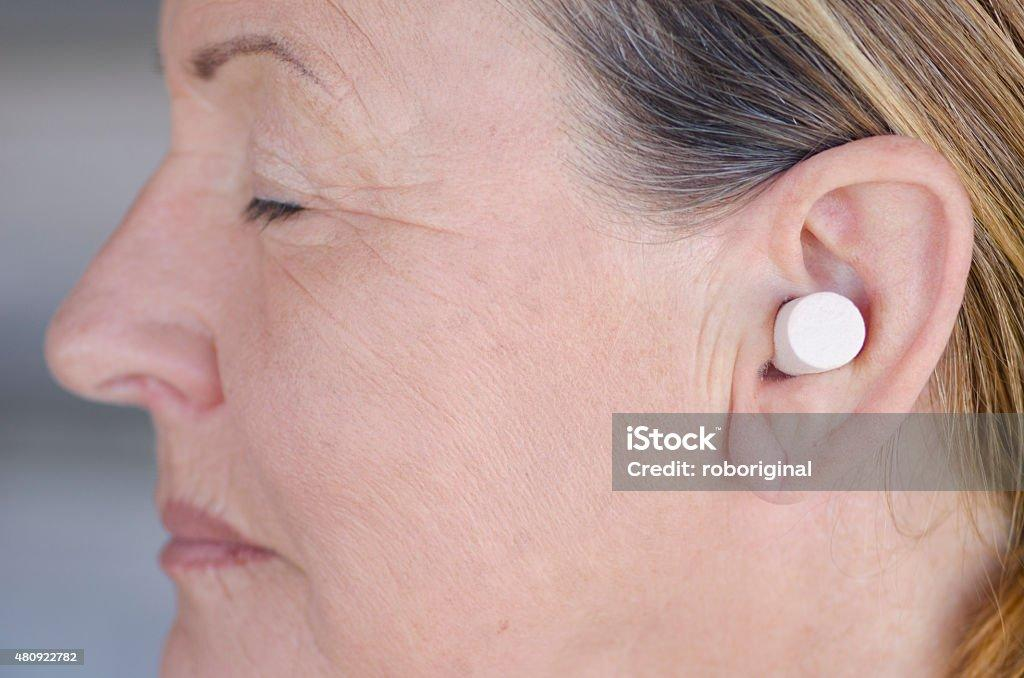Dry-Skin: (203, 536, 465, 678), (298, 246, 498, 401)
